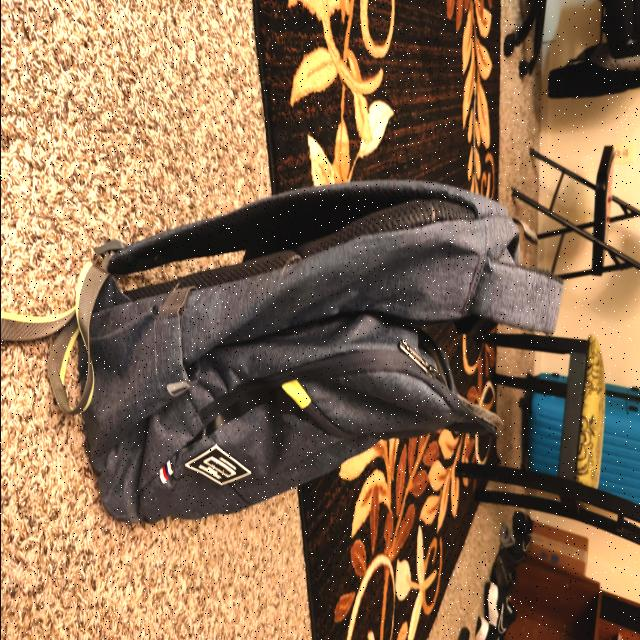bag: (75, 200, 561, 530)
